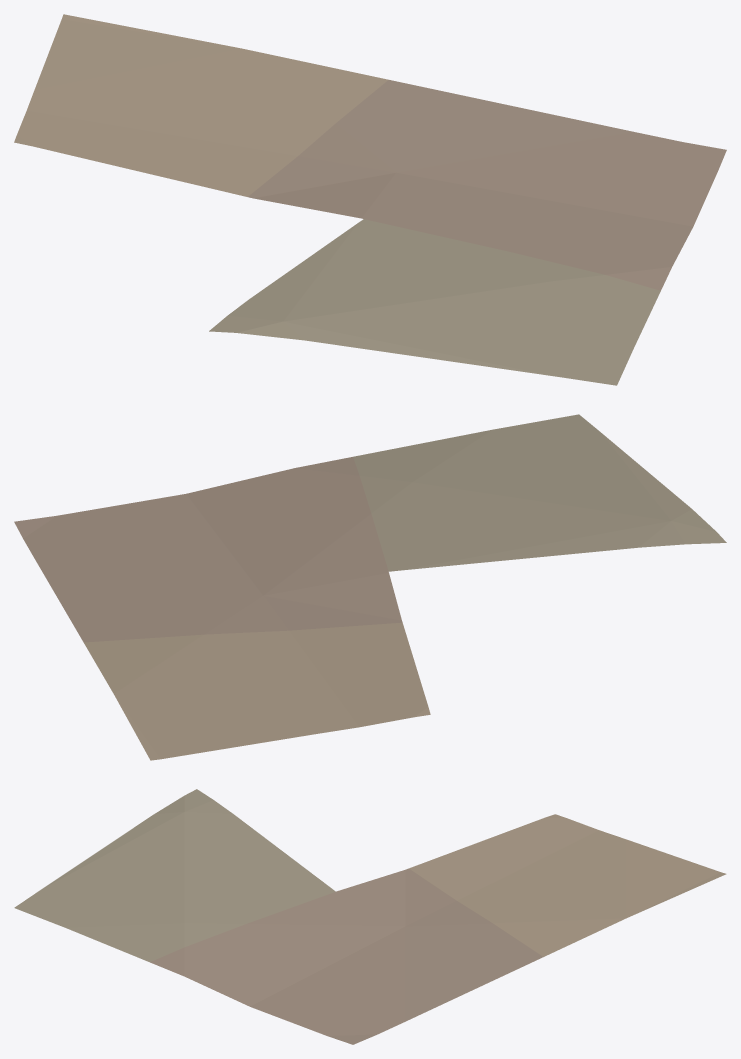
File: farm_-6_0_soil.glb
3 views of the same model, one above another, from view 1: azimuth 30°, elevation 25°; view 2: azimuth 150°, elevation 25°; view 3: azimuth 270°, elevation 25° (orthographic). The views are drawn at different scales.
Parts seen in each view (by area): view 1: geometry_0; view 2: geometry_0; view 3: geometry_0.
Boxes of the visible parts, x1,y1,x2,y2 form: geometry_0: [14, 14, 726, 385]; geometry_0: [14, 414, 726, 760]; geometry_0: [14, 789, 726, 1044].
Size of the model in its own units: 188 by 14.91 by 258.
